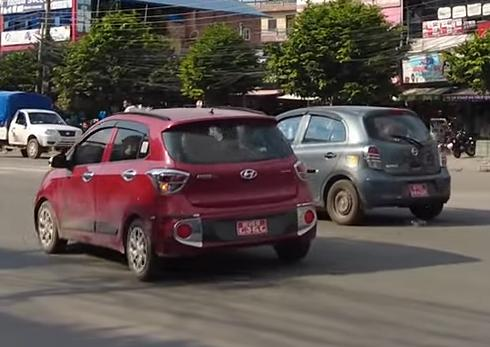car: (28, 96, 318, 269), (266, 104, 452, 226)
transport_vehicle: (0, 89, 83, 162)
